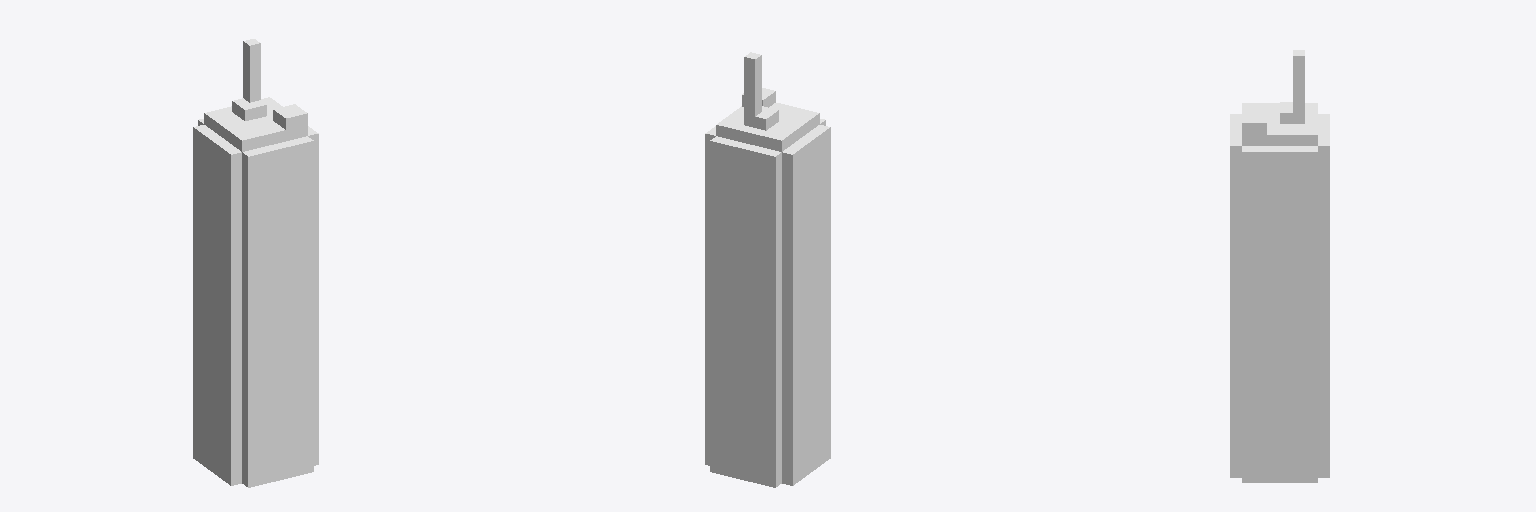
The model's file is cityBuilding1.obj.
The picture shows the model from 3 angles: view 1: azimuth 30°, elevation 25°; view 2: azimuth 150°, elevation 25°; view 3: azimuth 270°, elevation 25°; orthographic projection.
Parts seen in each view (by area): view 1: cityBuilding1; view 2: cityBuilding1; view 3: cityBuilding1.
Part boxes in pixels (left/top/right/bottom): cityBuilding1: left=193, top=39, right=318, bottom=487; cityBuilding1: left=705, top=52, right=830, bottom=487; cityBuilding1: left=1230, top=50, right=1329, bottom=482.
Size of the model in its own units: 8 by 36 by 8.